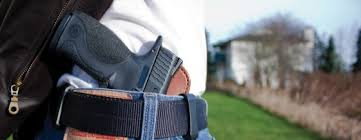Gun: (60, 13, 182, 94)
